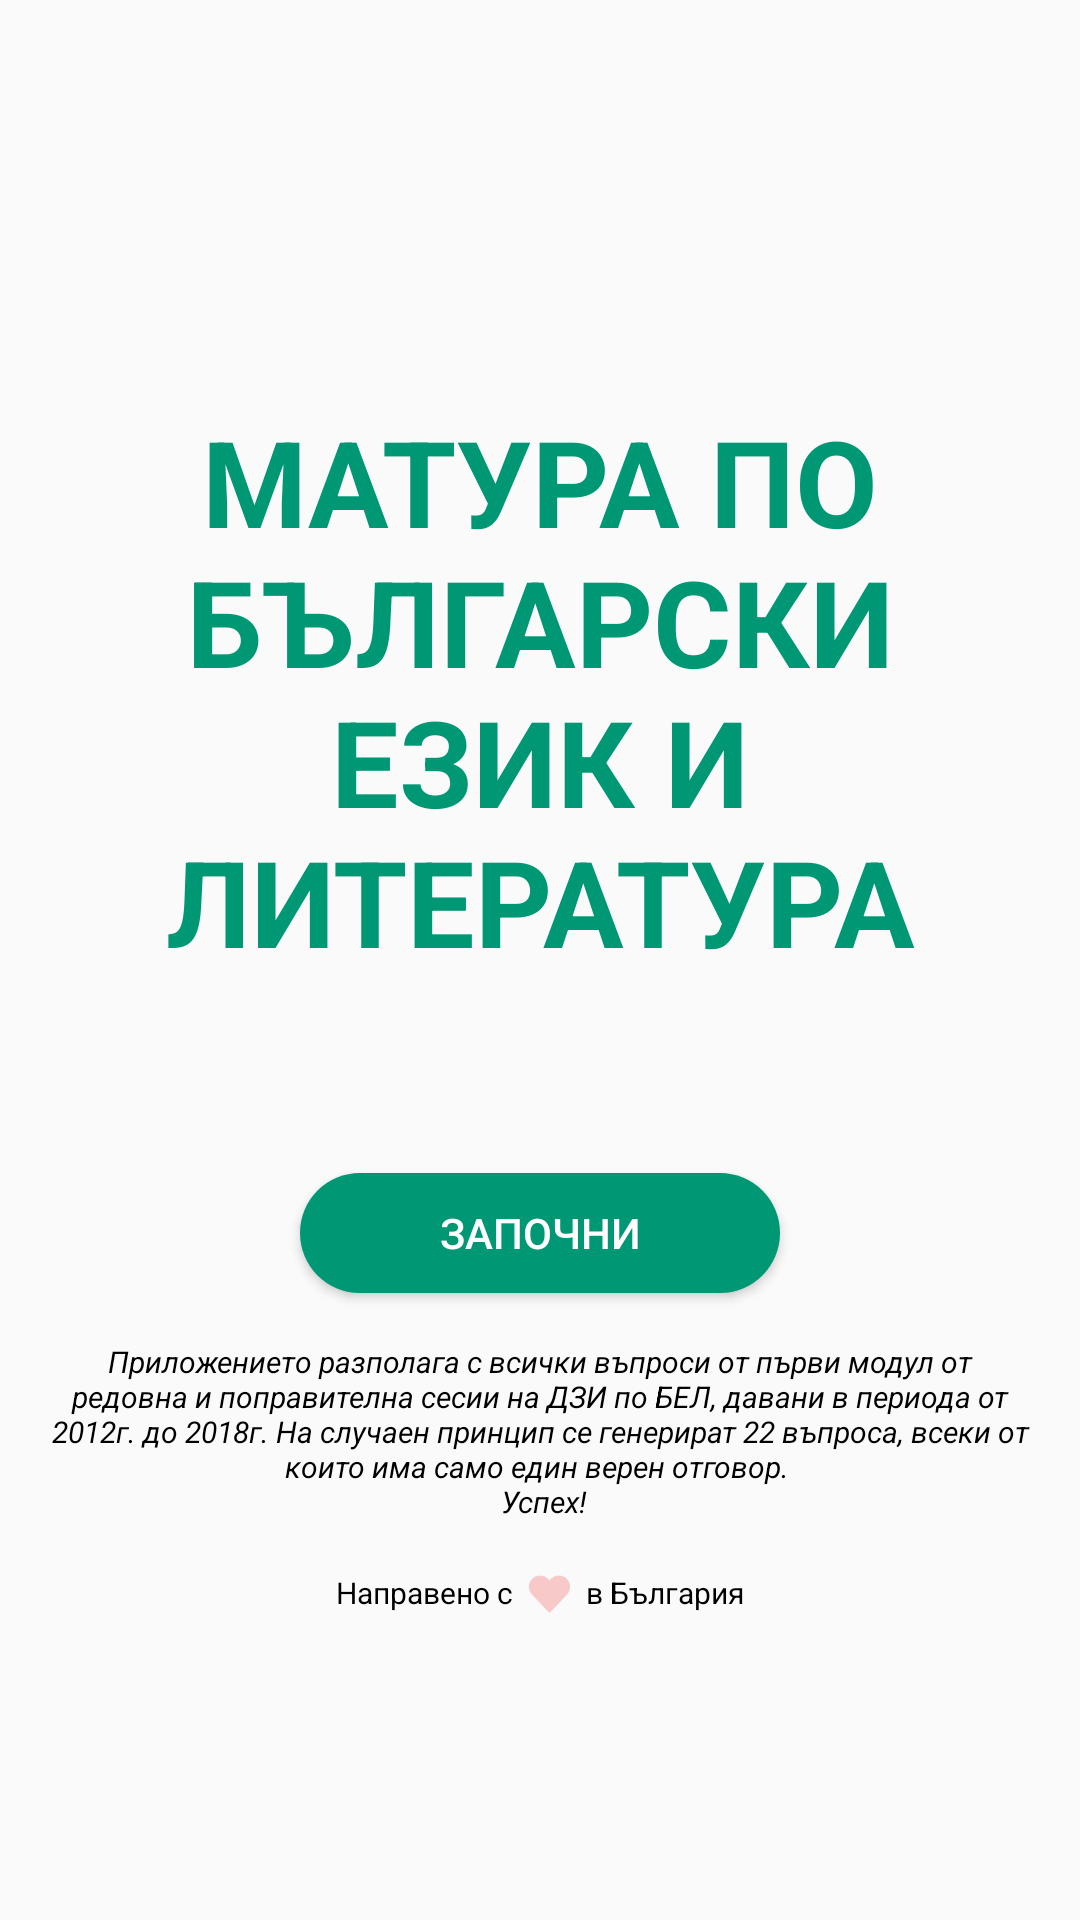

Icon click points for this 1080×1920 phone screenshot, format (x,y):
heart: (549,1594)
